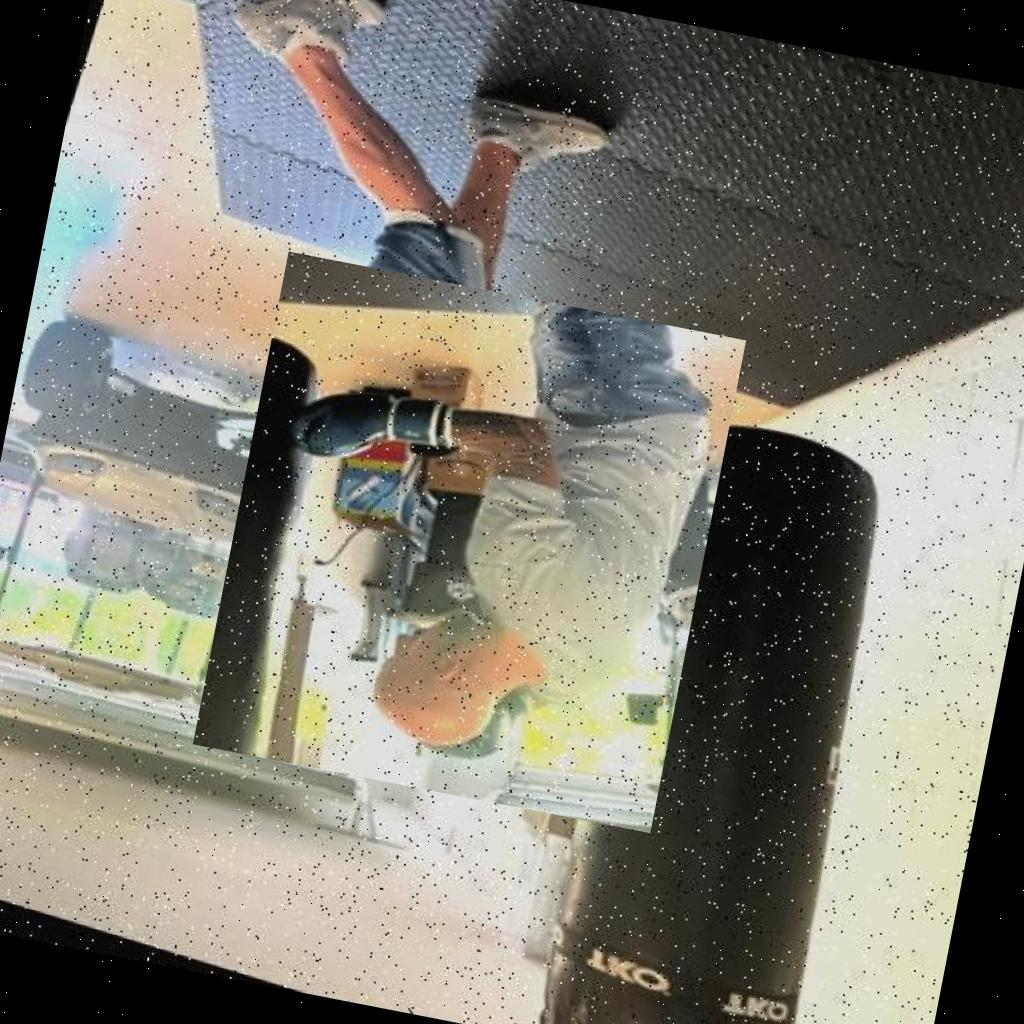uppercut: (193, 252, 746, 833)
